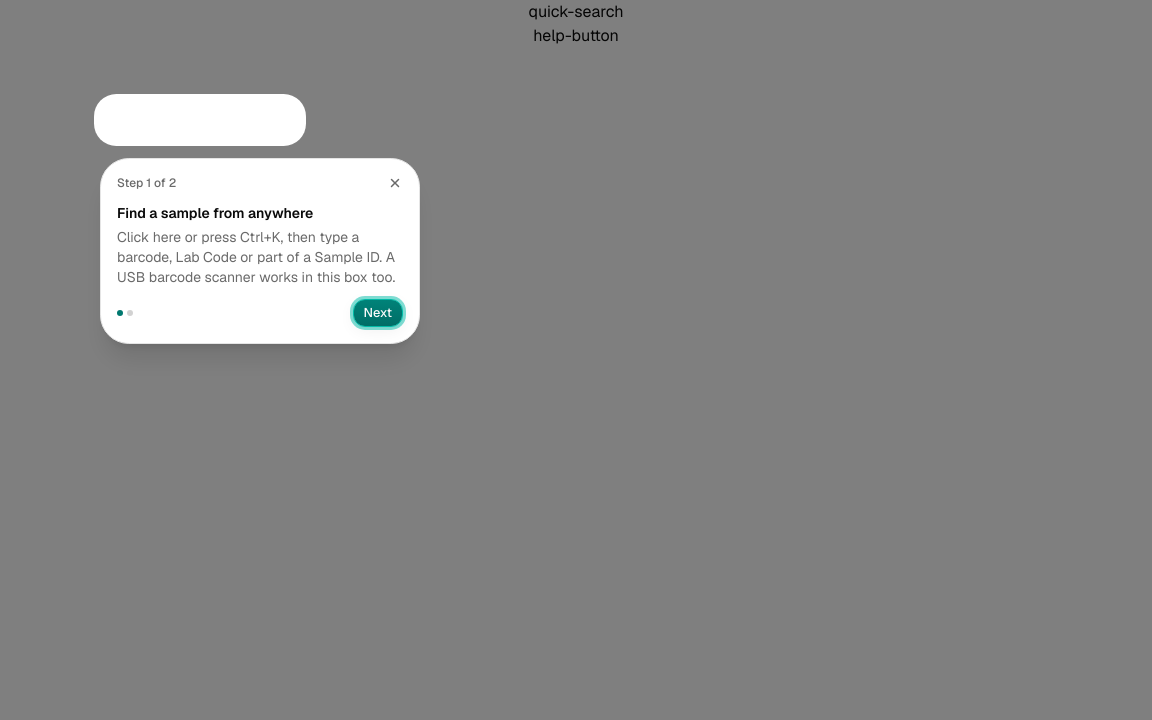
it: the tour runner › highlights the first step's element and walks on with Next
The width and height of the screenshot is (1152, 720).
Check: the text "Step 1 of 2" is shown, box left=117, top=175, right=176, bottom=191
Check: the heading "Find a sample from anywhere" is shown, box left=117, top=204, right=313, bottom=222
Click the button "Next" at (378,313), box left=352, top=299, right=403, bottom=327
Wait 400 ms
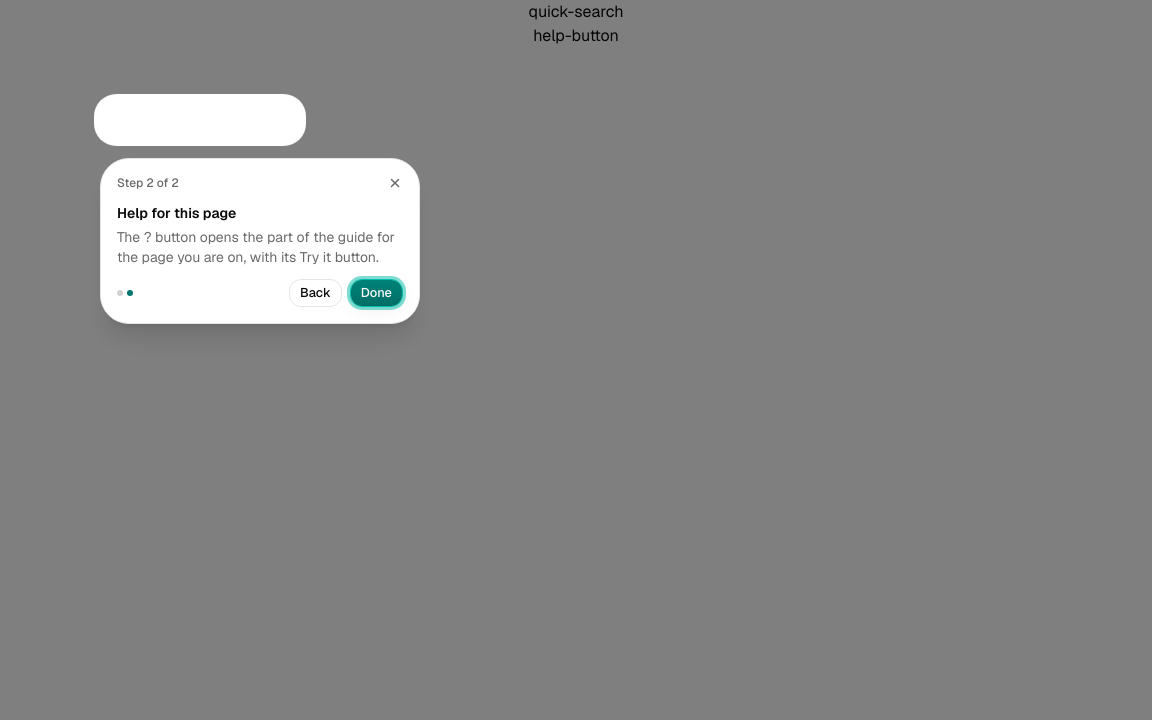
Check: the heading "Help for this page" is shown, box left=117, top=204, right=236, bottom=222
Check: the button "Done" is shown, box left=350, top=279, right=403, bottom=307
